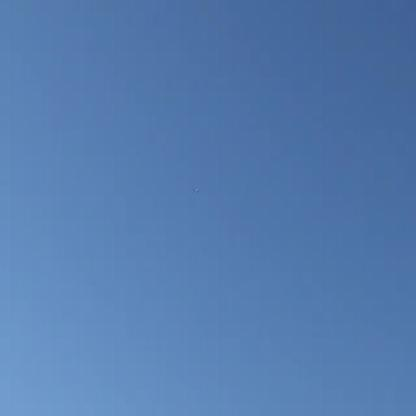CIV_Plane: (190, 186, 202, 194)
